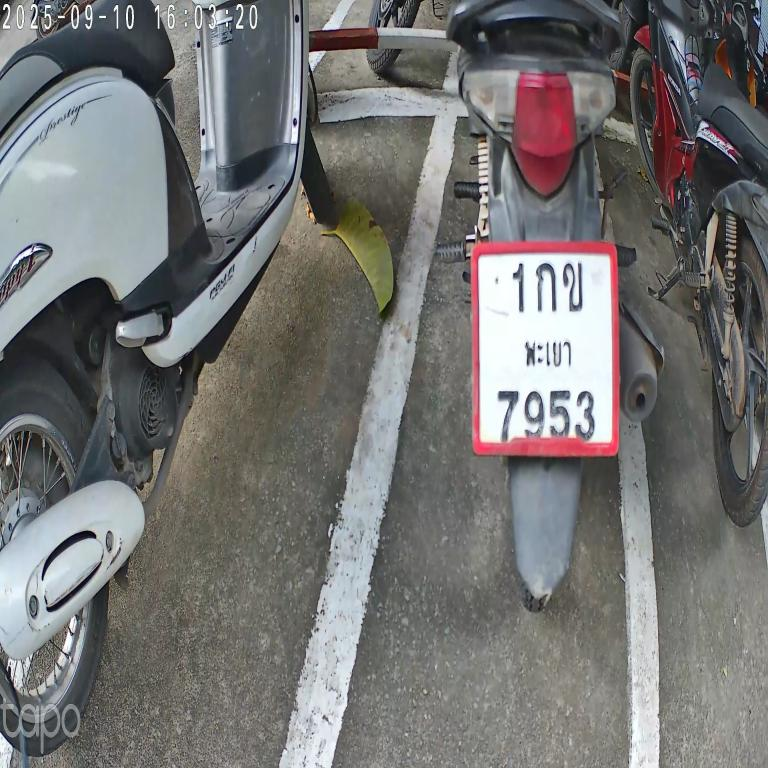license plate: (466, 226, 628, 476)
